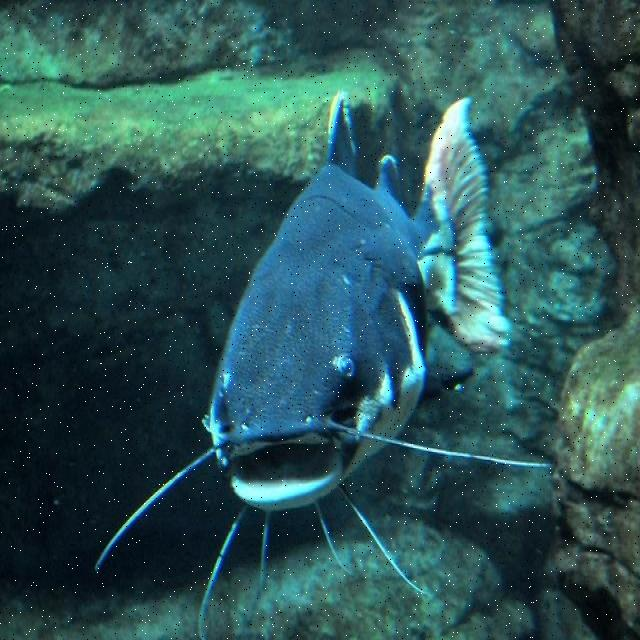fish: (94, 88, 555, 639)
